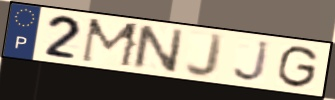2: (42, 14, 85, 63)
G: (275, 44, 321, 90)
J: (183, 31, 227, 80), (231, 39, 272, 84)
M: (78, 17, 144, 70)
N: (131, 23, 187, 75)
